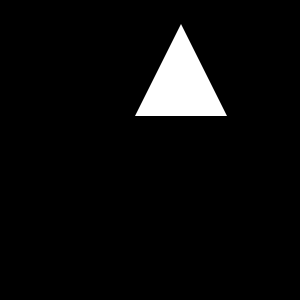triangle: (135, 24, 227, 116)
